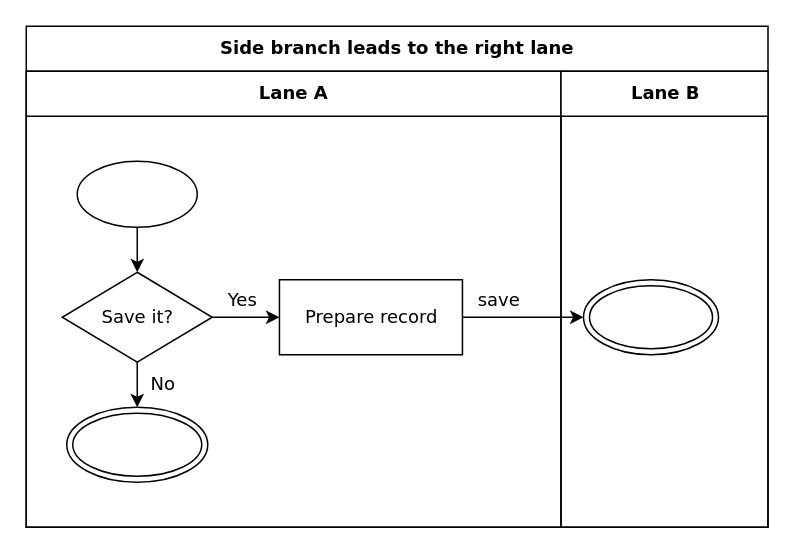
This 795x554 diagram has some shape labels left out. The box of each missing label's shape, as (x1, y1, x2, y2) in pixels:
Enter: (76, 160, 197, 227)
Ignore: (65, 406, 208, 482)
Saved: (582, 278, 718, 355)
